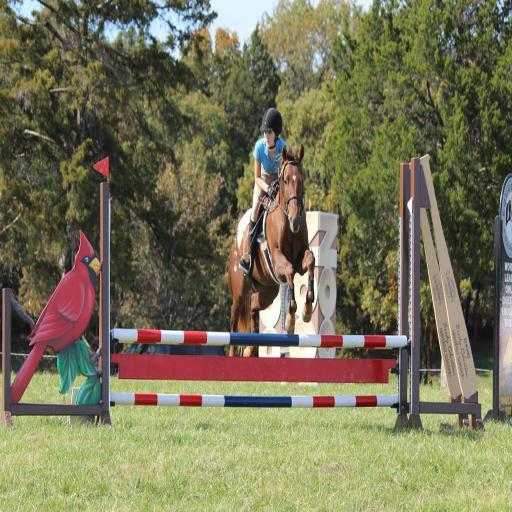horse: (224, 144, 316, 362)
